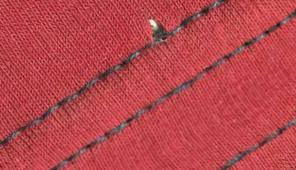hole: (140, 13, 166, 40)
